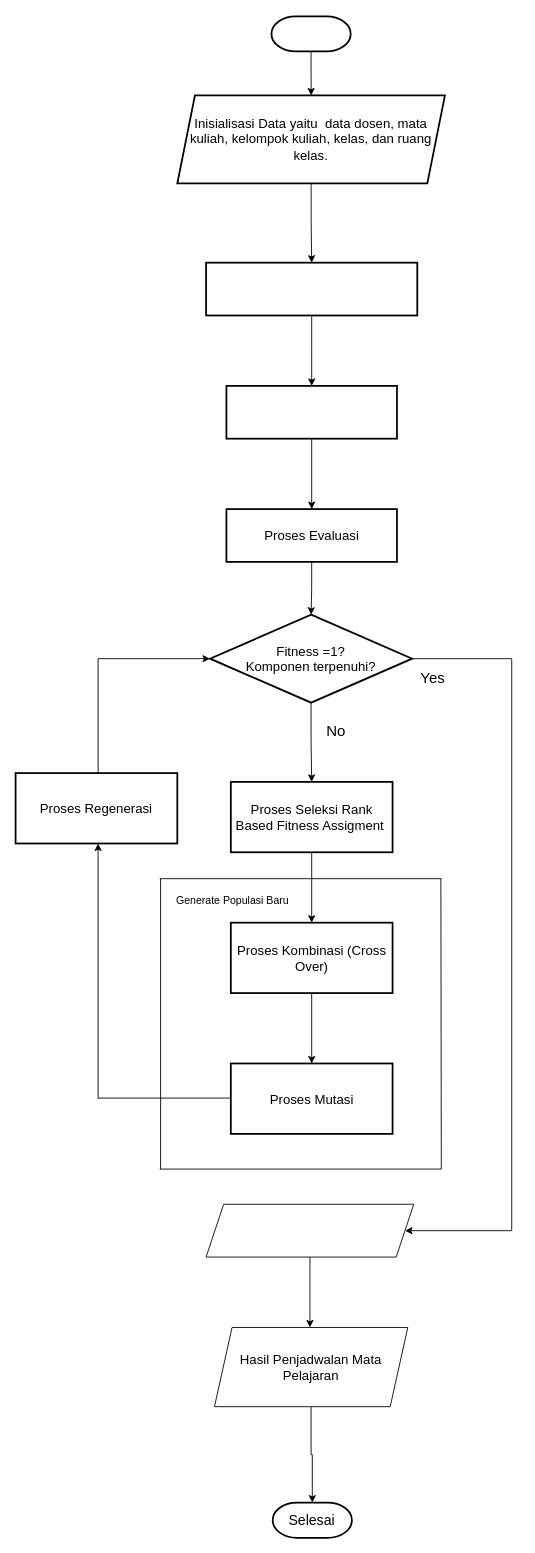
The diagram is 535 pixels wide and 1553 high, and some of its shapes have lost their labels. Each missing label, with the centre of its shape:
"Kromosom Terbaik" goes at [309,1230].
"MULAI" goes at [310,33].
"Pembentukan Kumpulan Jadwal" goes at [311,412].
"Pengkodean Data -Representasi Jadwal -Representasi Nilai Jadwal" goes at [311,288].
